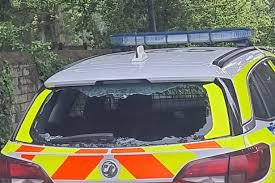Rear-windscreen-Damage: (33, 79, 215, 146)
